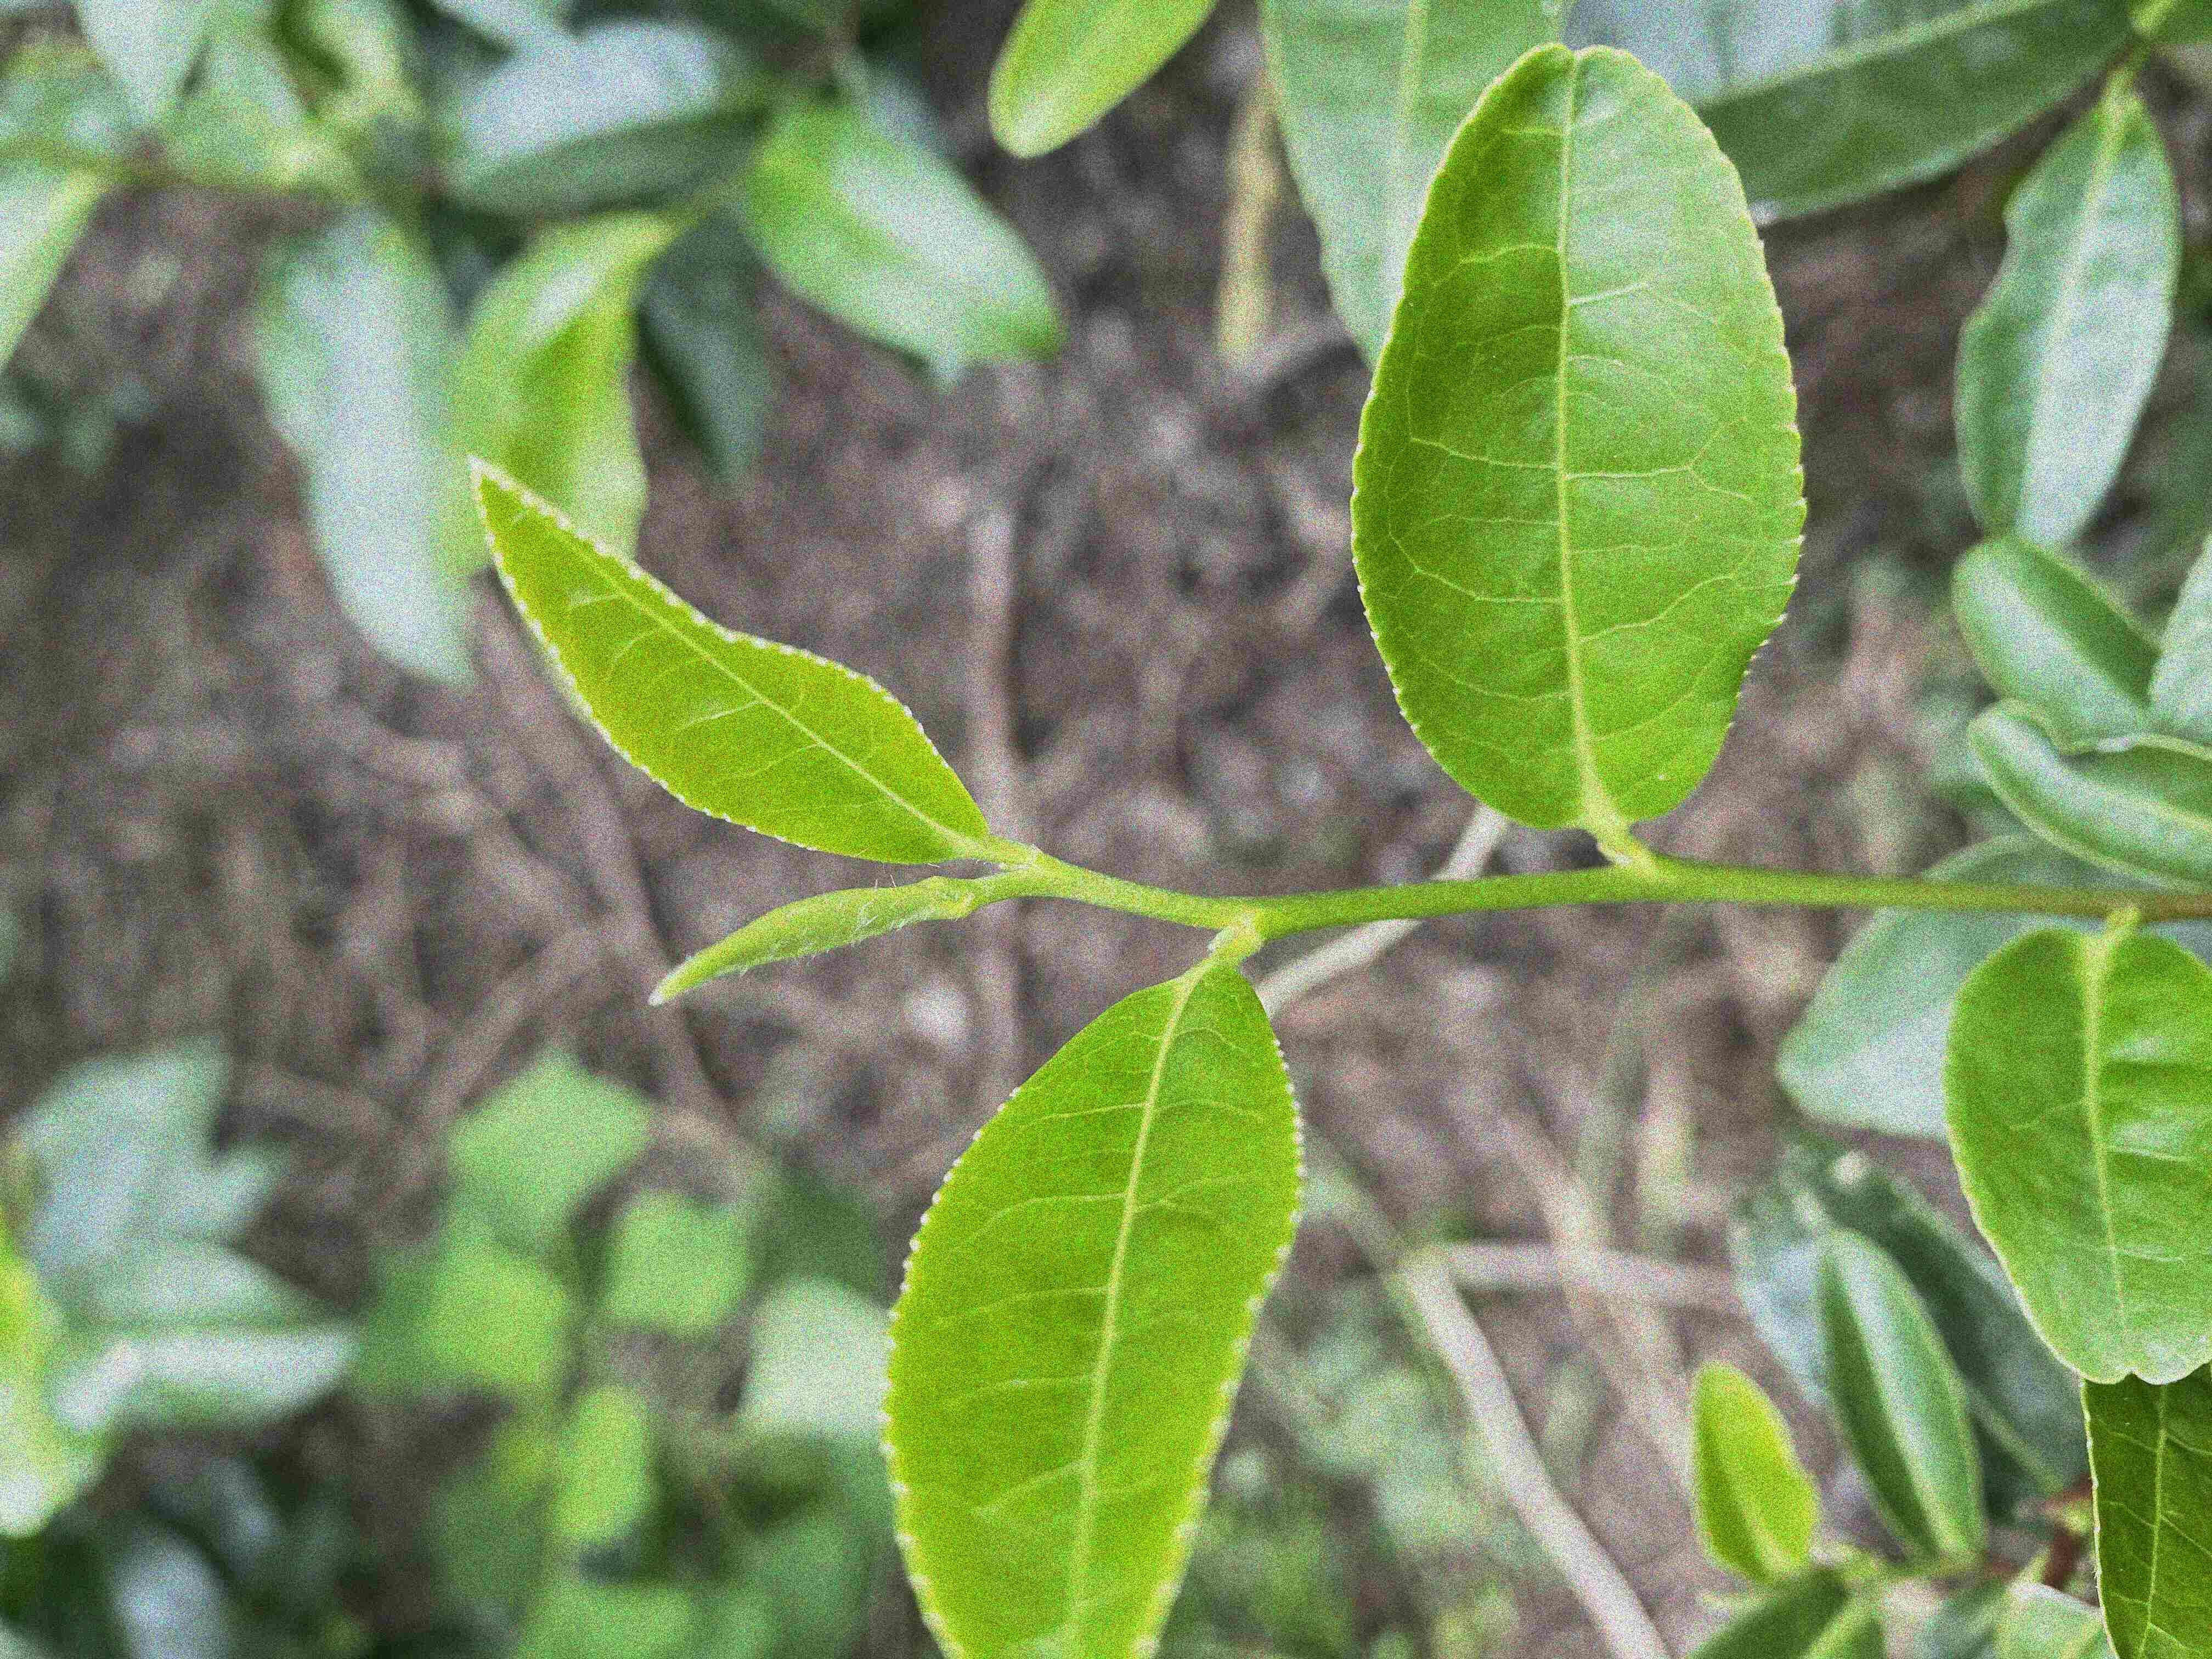healthy: (1346, 40, 1813, 831), (880, 964, 1305, 1656), (462, 457, 993, 866), (1940, 922, 2210, 1387)
